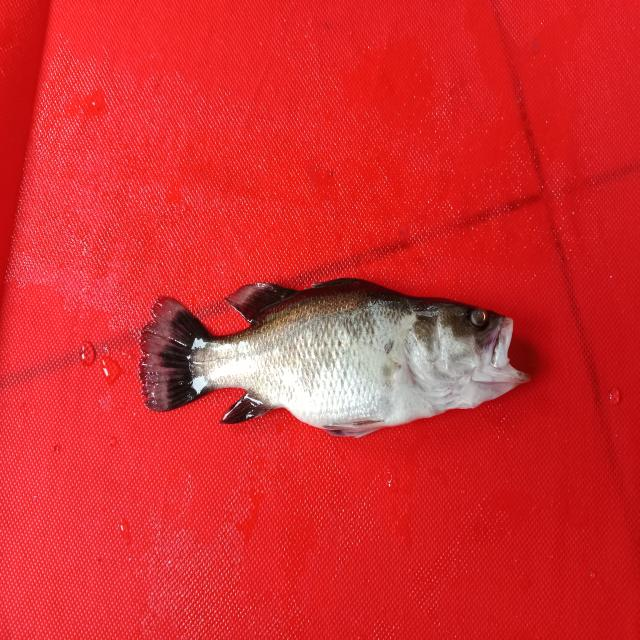ikan: (122, 256, 530, 456)
